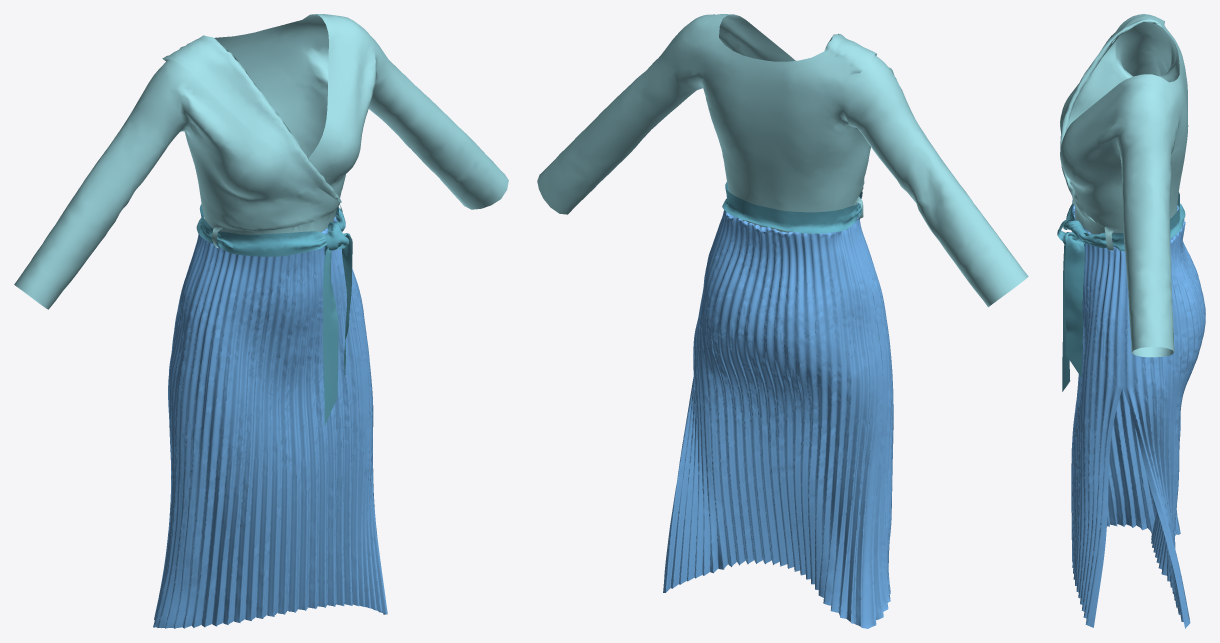
3 renders of one model, left to right at view 1: azimuth 30°, elevation 25°; view 2: azimuth 150°, elevation 25°; view 3: azimuth 270°, elevation 25°, orthographic. The views are drawn at different scales.
Parts seen in each view (by area): view 1: N; view 2: N; view 3: N.
Boxes of the visible parts, x1,y1,x2,y2 form: N: (14, 14, 508, 628); N: (537, 14, 1028, 628); N: (1057, 14, 1205, 628).
Size of the model in its own units: 0.9707 by 1.12 by 0.2777.
